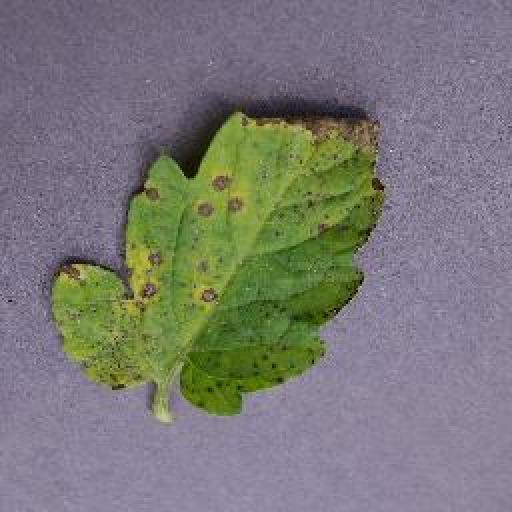Septoria: (52, 111, 390, 412)
